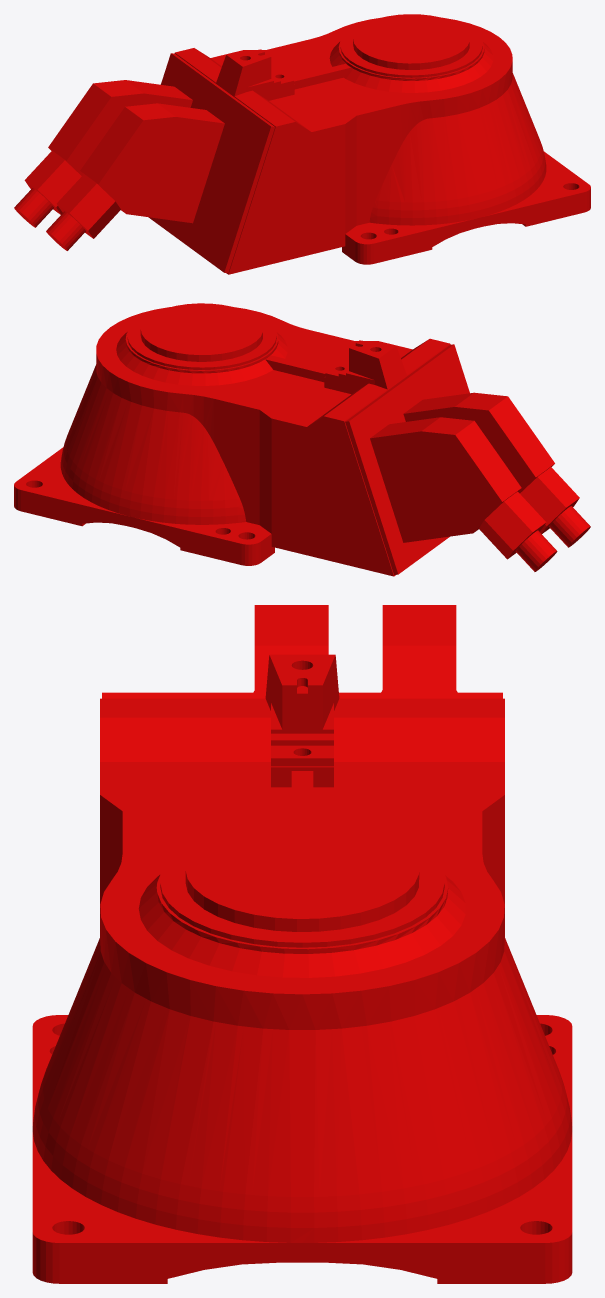
3 renders of one model, top to bottom at view 1: azimuth 30°, elevation 25°; view 2: azimuth 150°, elevation 25°; view 3: azimuth 270°, elevation 25°, orthographic. The views are drawn at different scales.
Visible parts, largest first — view 1: ShapeIndexedFaceSet; view 2: ShapeIndexedFaceSet; view 3: ShapeIndexedFaceSet.
Part boxes in pixels (x1,y1,x2,y2): ShapeIndexedFaceSet: (14,14,590,274); ShapeIndexedFaceSet: (14,303,590,576); ShapeIndexedFaceSet: (32,605,572,1283).
Size of the model in its own units: 619 by 300 by 210.
